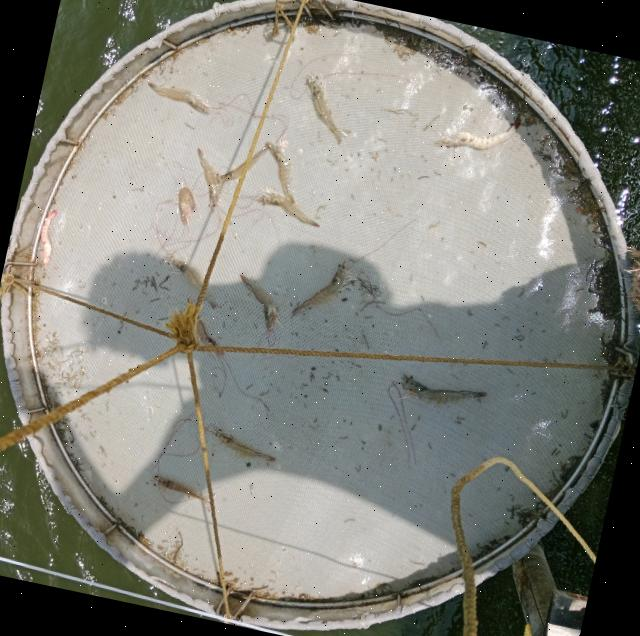shrimp: (292, 262, 355, 316), (437, 116, 521, 149), (306, 76, 346, 143), (403, 374, 486, 403), (167, 258, 216, 307), (209, 428, 276, 462), (258, 190, 319, 225), (240, 274, 278, 330), (186, 298, 223, 355), (215, 145, 270, 183), (149, 81, 209, 112), (267, 141, 295, 203), (154, 475, 209, 502), (198, 148, 219, 210), (39, 209, 56, 267), (179, 187, 196, 222)
